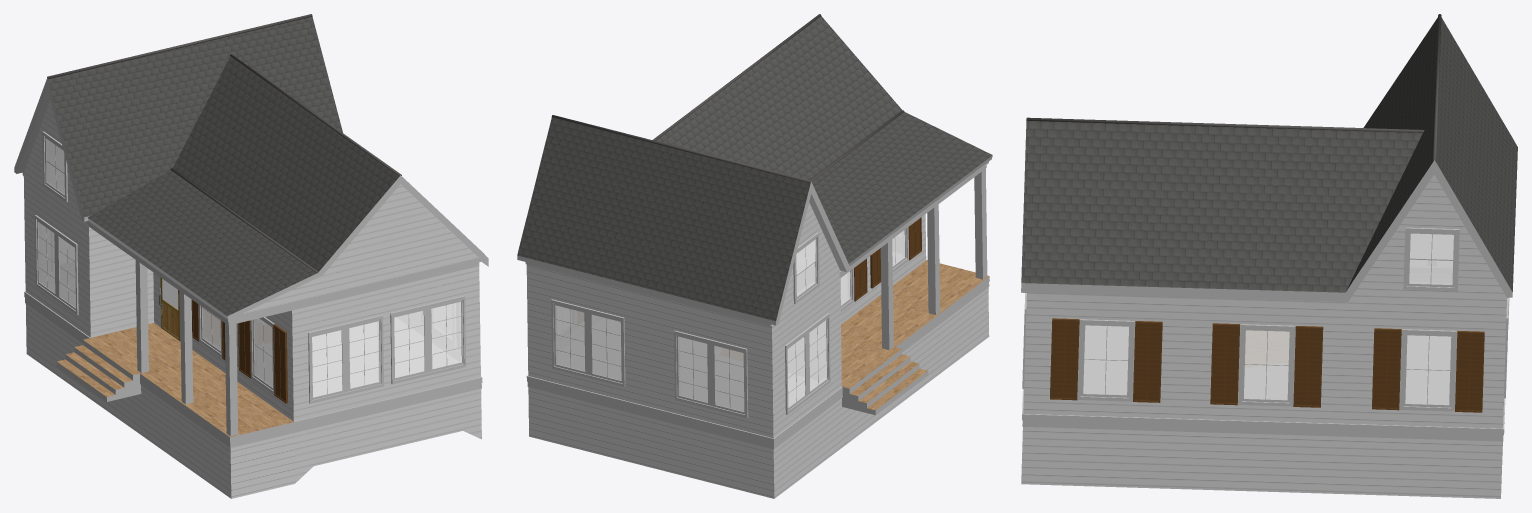
3 views of the same model, side by side, from view 1: azimuth 30°, elevation 25°; view 2: azimuth 150°, elevation 25°; view 3: azimuth 270°, elevation 25° (orthographic). The views are drawn at different scales.
Parts seen in each view (by area): view 1: Object_12, Object_7, Object_3, Object_10, Object_11, Object_8, Object_9; view 2: Object_12, Object_7, Object_3, Object_10, Object_11, Object_8, Object_9; view 3: Object_12, Object_7, Object_3, Object_10, Object_8, Object_9.
Boxes of the visible parts, bbox=[...] form: Object_12: bbox=[47, 14, 401, 315]; Object_7: bbox=[23, 100, 481, 498]; Object_3: bbox=[14, 77, 488, 447]; Object_10: bbox=[38, 138, 461, 397]; Object_11: bbox=[57, 323, 293, 437]; Object_8: bbox=[191, 300, 285, 400]; Object_9: bbox=[192, 300, 287, 403]; Object_12: bbox=[517, 14, 992, 320]; Object_7: bbox=[526, 202, 989, 498]; Object_3: bbox=[517, 155, 992, 449]; Object_10: bbox=[555, 230, 904, 411]; Object_11: bbox=[841, 260, 989, 410]; Object_8: bbox=[855, 218, 920, 298]; Object_9: bbox=[854, 217, 921, 301]; Object_12: bbox=[1021, 14, 1517, 292]; Object_7: bbox=[1021, 174, 1506, 498]; Object_3: bbox=[1021, 151, 1517, 441]; Object_10: bbox=[1083, 233, 1453, 404]; Object_8: bbox=[1051, 321, 1482, 410]; Object_9: bbox=[1050, 318, 1484, 412].
Bounding box in the file's own units: 45.79 × 45.03 × 59.09.
10 materials, 6 textured.
